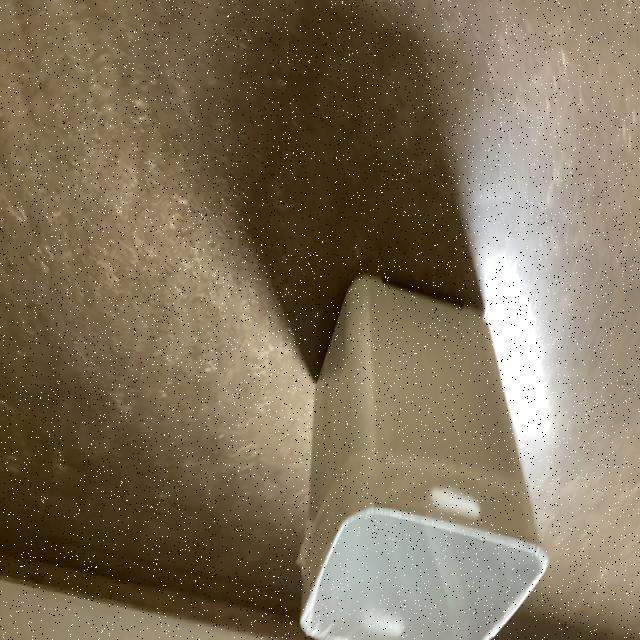garbage container: (285, 261, 577, 640)
